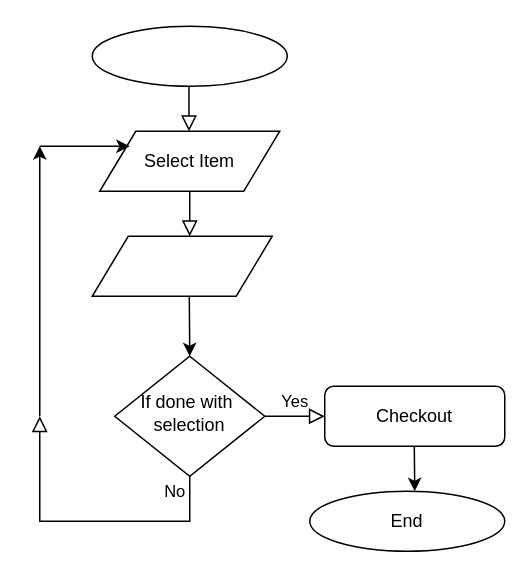
This 531x578 diagram has some shape labels left out. The shapes that lost their labels are listed below. From the top down, each one's centre as x and y in pixels, then its label:
At point (189, 55): "Start".
At point (181, 265): "Add to Cart".
